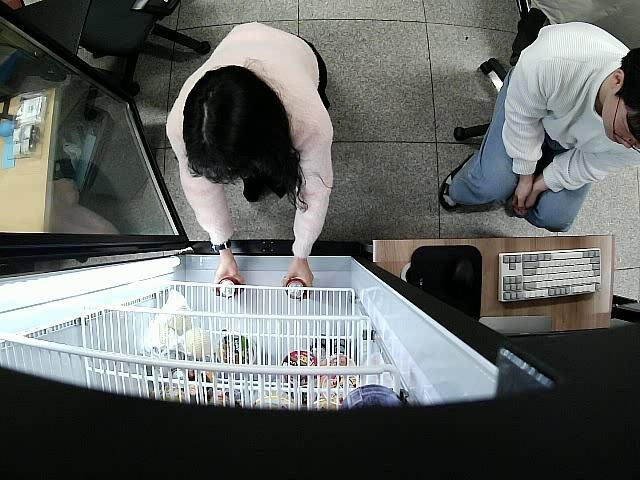11_cocaColaZero: (218, 278, 243, 299), (286, 278, 307, 300)
